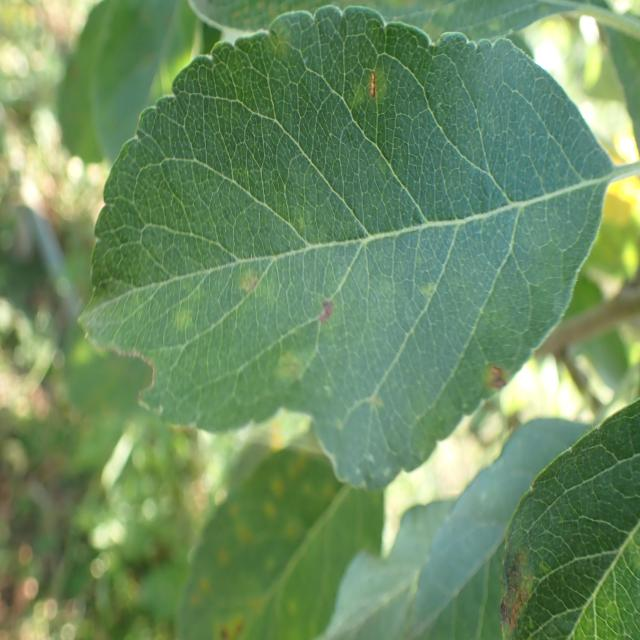scab: (112, 20, 576, 430)
